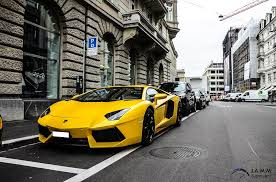Lamborghini: (38, 83, 157, 141)
